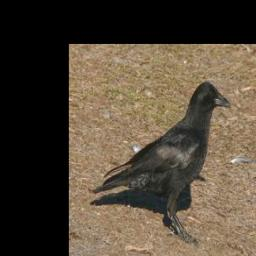Crow: (91, 79, 228, 245)
